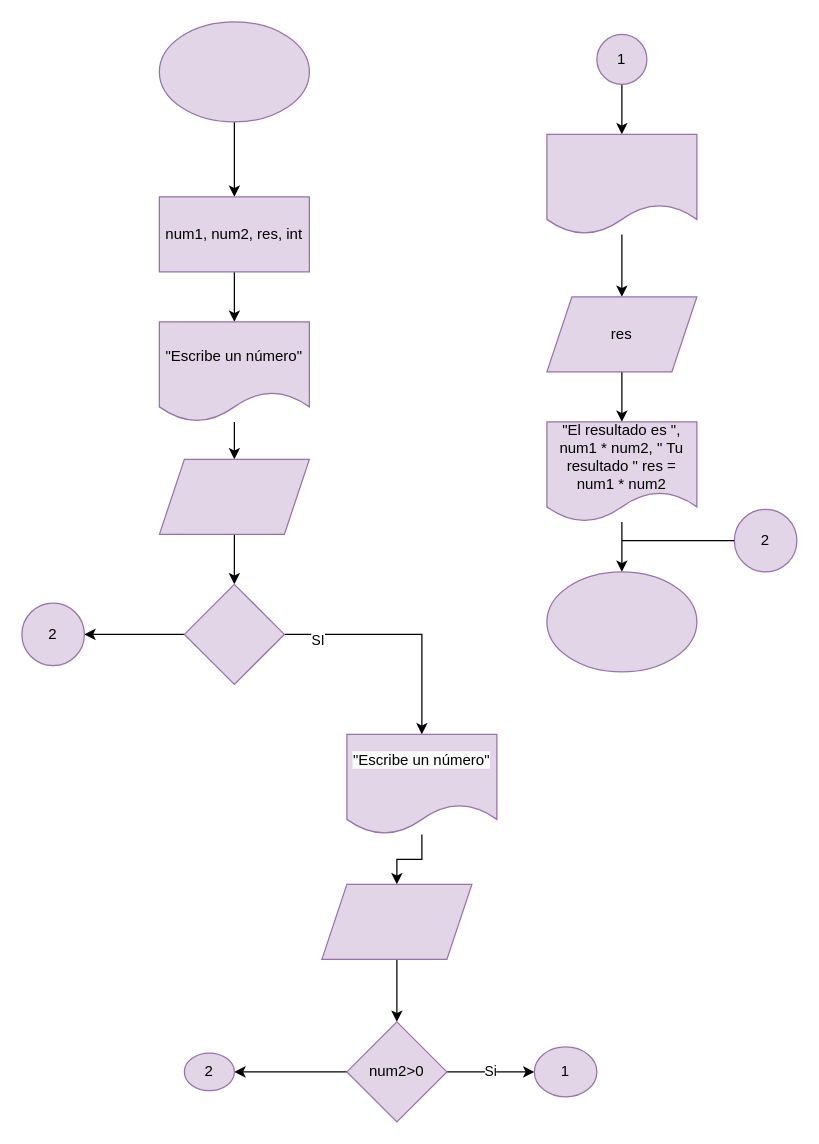
Image size: 819x1144. Some labels were removed from this diagram. Each missing label, with the centre of its shape:
Fin: pixel 621 621
Inicio: pixel 233 71
num1: pixel 233 496
num1 "*" num2 "=": pixel 621 183
num1>0: pixel 233 633
num2: pixel 396 921
